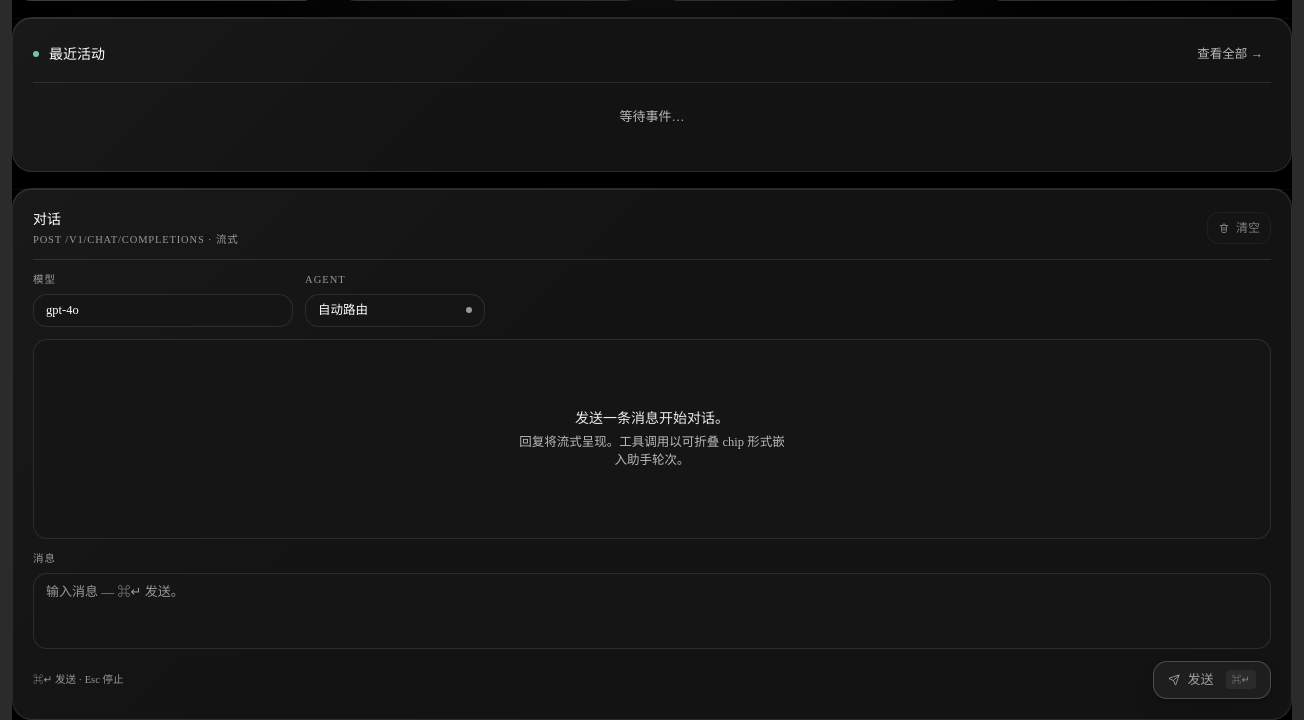
Test case: PlaygroundPage › sending a message streams the assistant reply into the transcript
(page scrolled)
Step 1. Type "hi there" into the text box with test id "chat-composer" → (652, 611), box x1=33 y1=573 x2=1271 y2=649
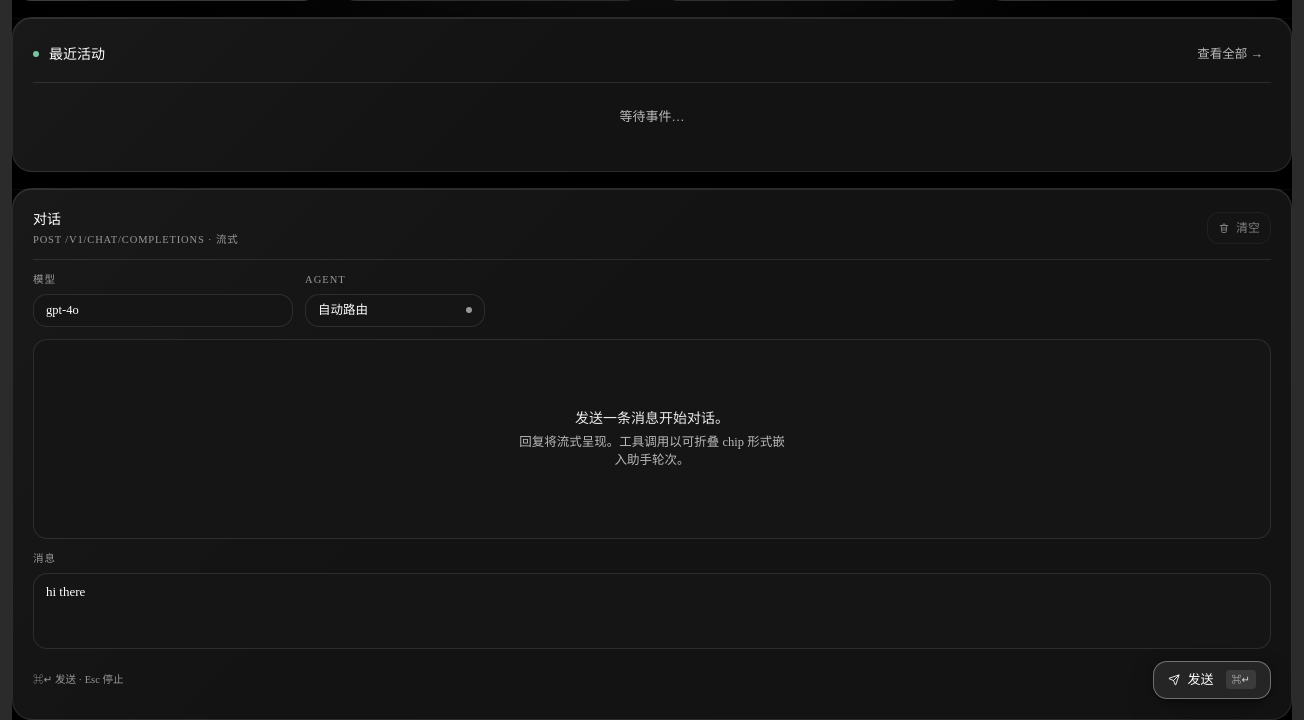
expect the button with test id "chat-send" is enabled: met
Step 2. Click the button with test id "chat-send" → (1212, 680), box x1=1153 y1=661 x2=1271 y2=699
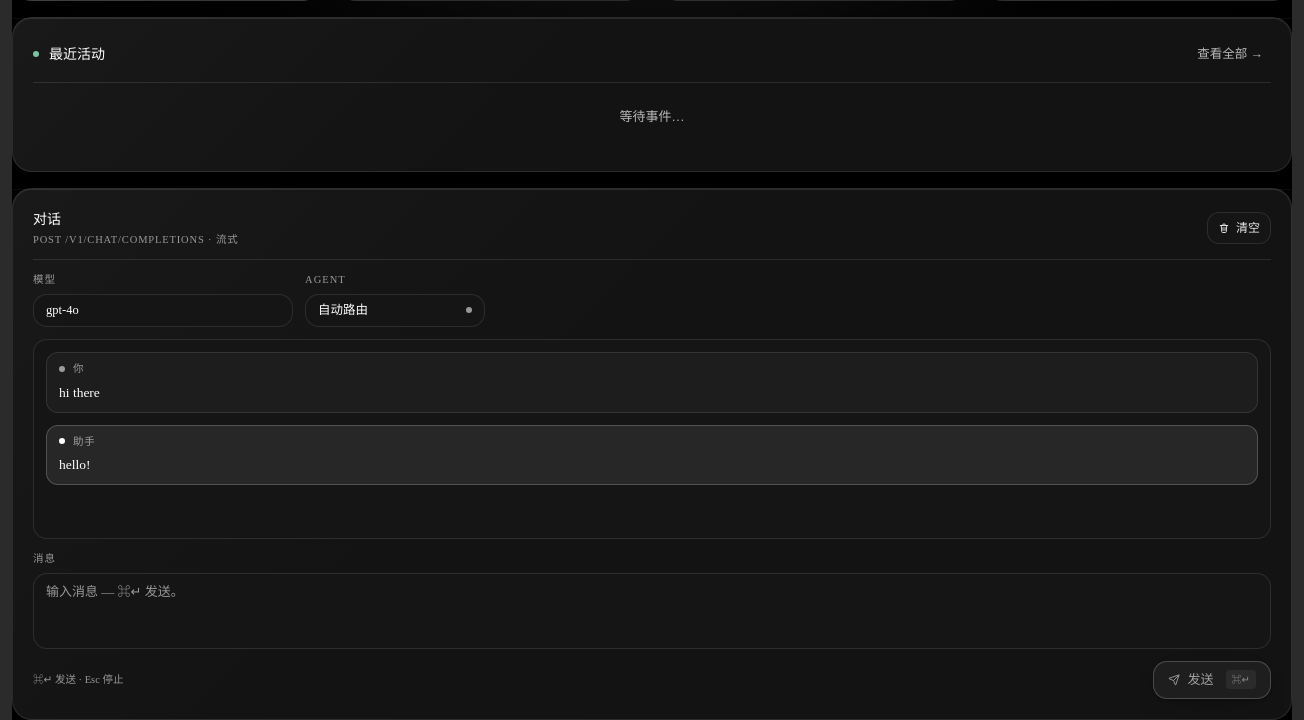
expect the element with test id "chat-turn-user" shows "hi there": met, box x1=59 y1=385 x2=100 y2=400
expect the element with test id "chat-turn-assistant" shows "hello!": met, box x1=59 y1=457 x2=90 y2=472
